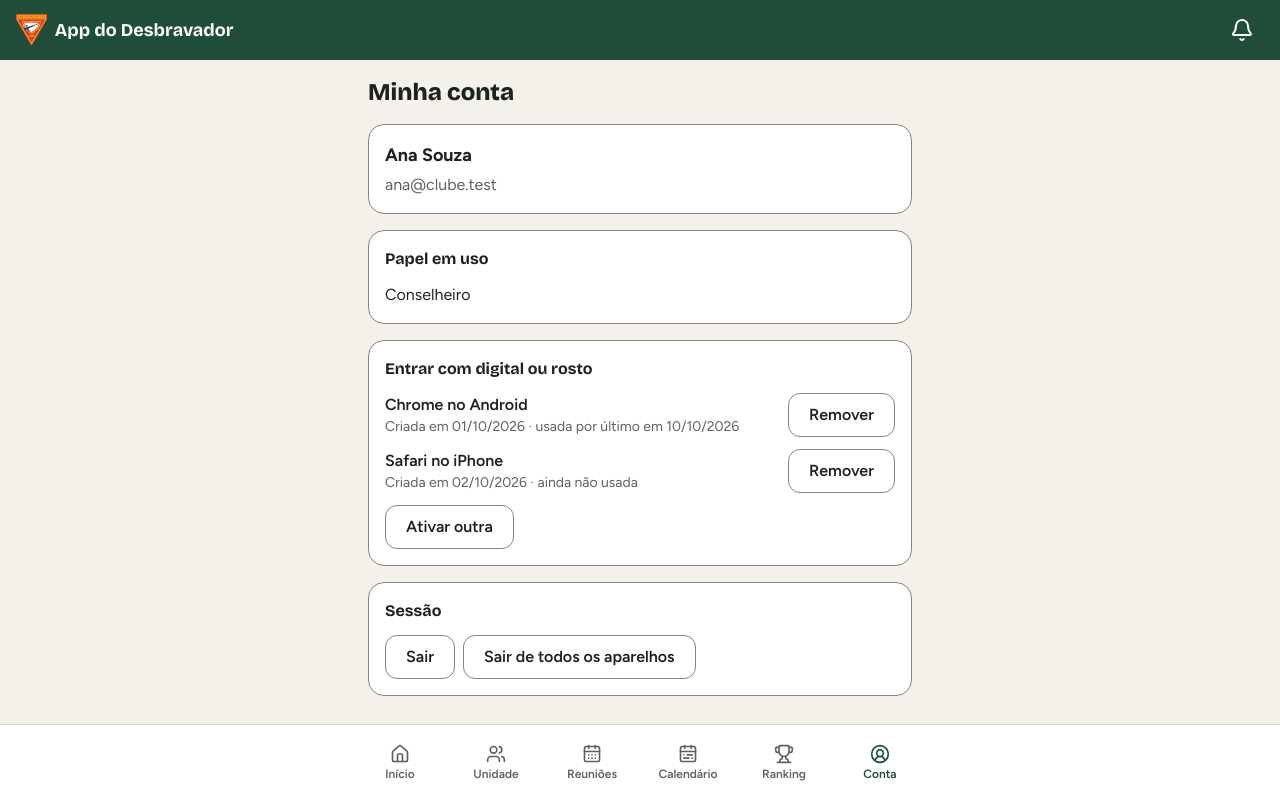
Test: Minha conta: entrar com digital ou rosto › Remover pede confirmação, apaga a certa e atualiza a lista
What coordinates should you click on to do the following:
click the button with aria-label "Remover Chrome no Android"
I would click on:
 (842, 415)
Its box is [788, 393, 895, 437].
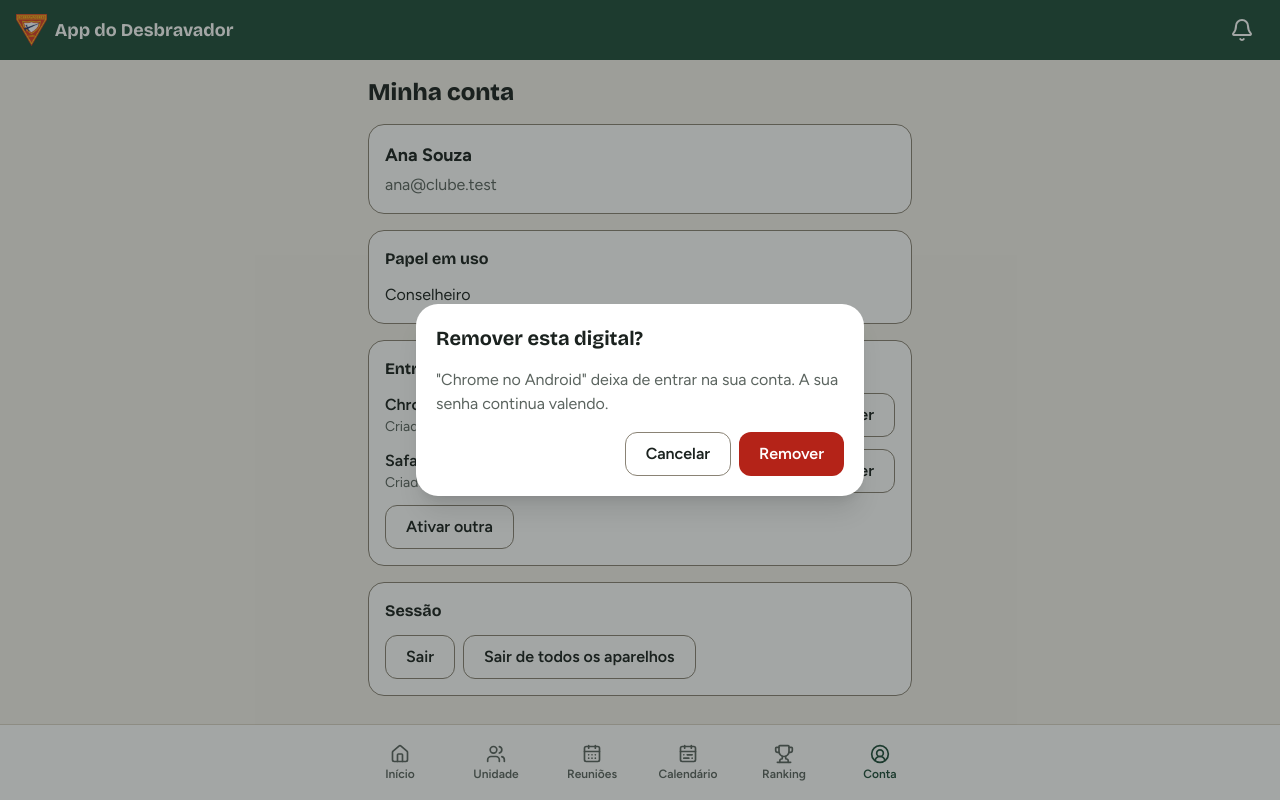
What coordinates should you click on to do the following:
click the button "Remover"
I would click on:
 (792, 454)
Its box is [739, 432, 844, 476].
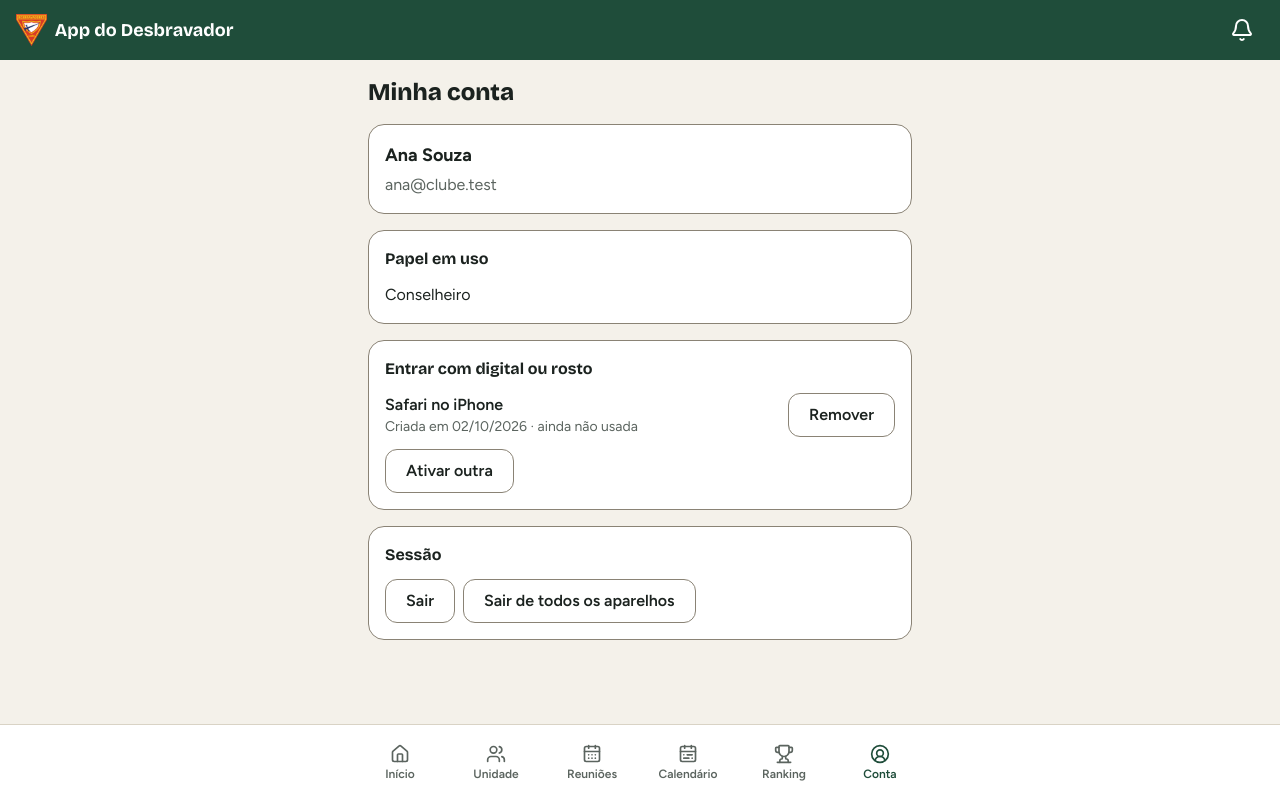
Expected: the text "Safari no iPhone" is shown, [385, 395, 503, 414]
Result: the text "Chrome no Android" is gone
